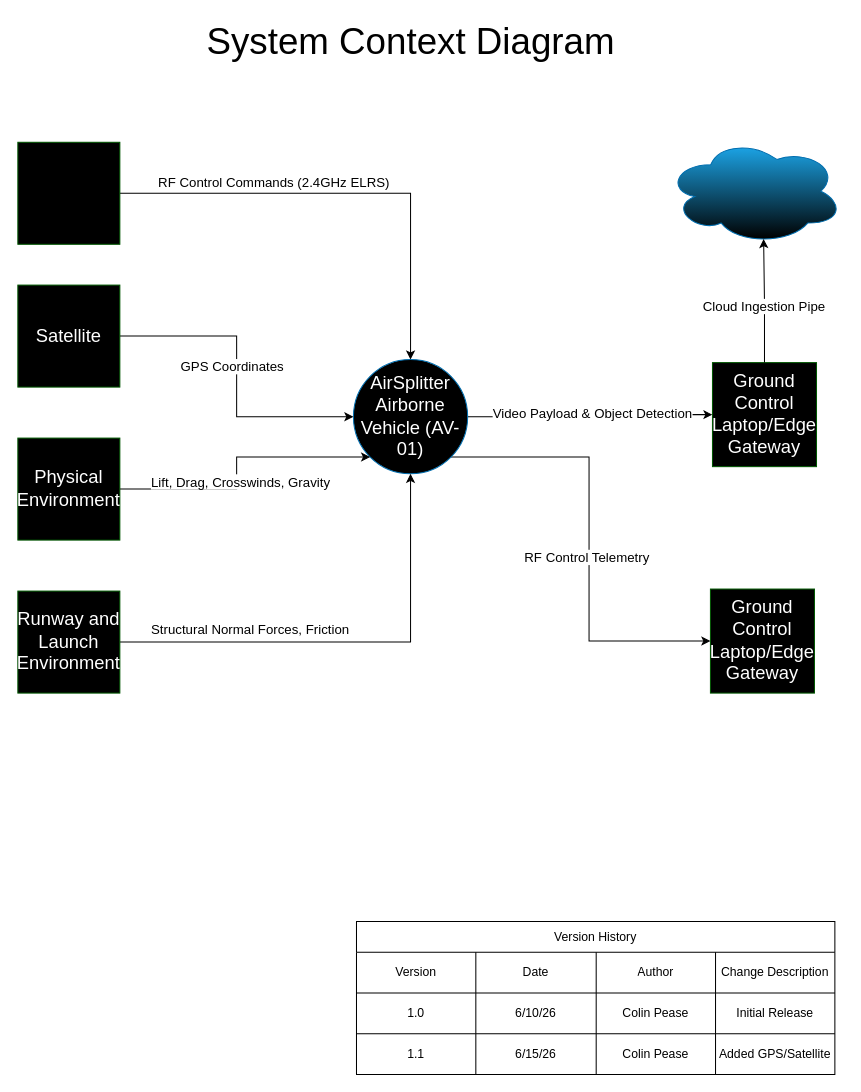
This 861x1092 diagram has some shape labels left out. Here are the shapes that lost their labels. From the top down, the centre of each, then its label:
the point at 68,192: Ground Operator (TX16S MK3)
the point at 754,190: Cloud Infrastructure /Server
